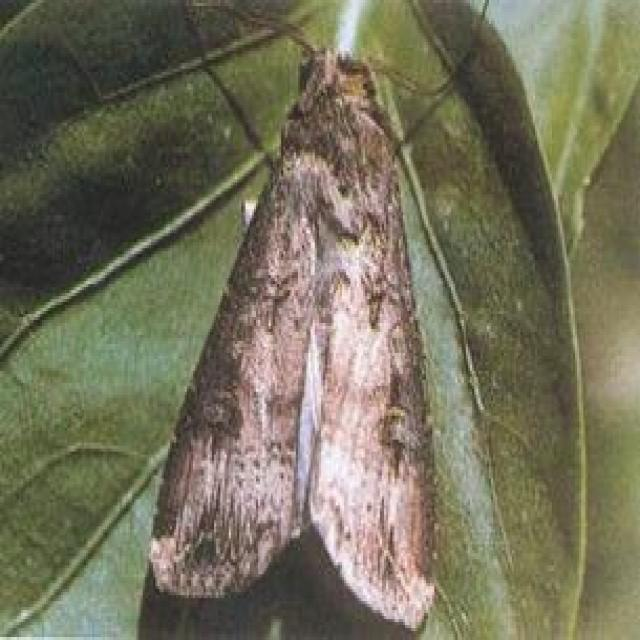black cutworm: (144, 45, 484, 622)
